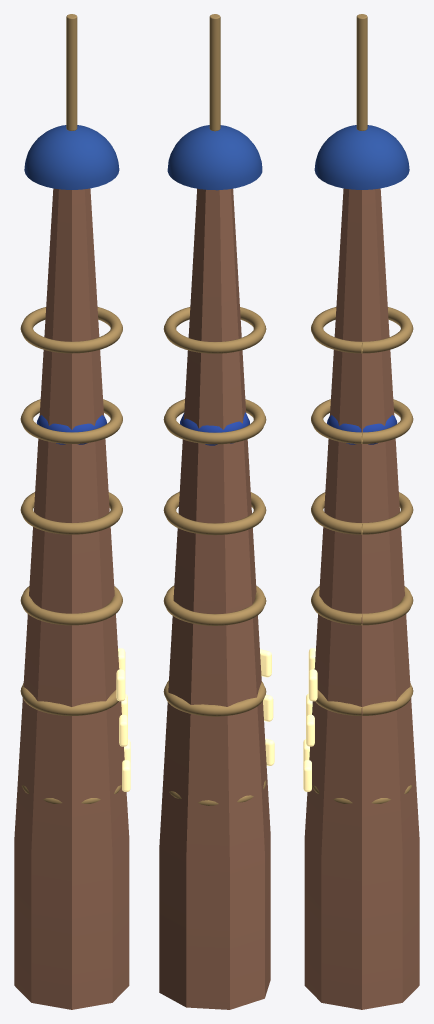
The picture shows the model from 3 angles, left to right: view 1: azimuth 90°, elevation 25°; view 2: azimuth 150°, elevation 25°; view 3: azimuth 270°, elevation 25°; orthographic projection.
Parts seen in each view (by area): view 1: Tapered spire, Sensor pickup cap, Sensor mast collar.007, Sensor mast collar.006, Sensor mast collar.005, Sensor mast collar.004, Aerial stem, Sensor mast collar.003, Spire collar, Inset service window.004; view 2: Tapered spire, Sensor pickup cap, Sensor mast collar.007, Sensor mast collar.006, Sensor mast collar.005, Sensor mast collar.004, Aerial stem, Sensor mast collar.003, Spire collar, Inset service window.004; view 3: Tapered spire, Sensor pickup cap, Sensor mast collar.007, Sensor mast collar.006, Sensor mast collar.005, Sensor mast collar.004, Aerial stem, Sensor mast collar.003, Spire collar, Inset service window.005.
Part boxes in pixels (box(x1,y1,x2,y2)): Tapered spire: box(14, 188, 129, 1009); Sensor pickup cap: box(24, 125, 119, 189); Sensor mast collar.007: box(20, 307, 122, 353); Sensor mast collar.006: box(20, 399, 122, 443); Sensor mast collar.005: box(20, 492, 122, 534); Sensor mast collar.004: box(20, 586, 122, 625); Aerial stem: box(66, 14, 77, 130); Sensor mast collar.003: box(20, 683, 118, 715); Spire collar: box(36, 415, 106, 444); Inset service window.004: box(116, 669, 125, 701); Tapered spire: box(159, 188, 270, 1009); Sensor pickup cap: box(167, 125, 262, 190); Sensor mast collar.007: box(163, 307, 266, 353); Sensor mast collar.006: box(163, 399, 266, 444); Sensor mast collar.005: box(163, 492, 266, 535); Sensor mast collar.004: box(163, 585, 266, 625); Aerial stem: box(209, 14, 220, 131); Sensor mast collar.003: box(163, 680, 266, 716); Spire collar: box(180, 412, 249, 445); Inset service window.004: box(260, 649, 271, 677); Tapered spire: box(304, 188, 419, 1009); Sensor pickup cap: box(314, 125, 409, 189); Sensor mast collar.007: box(311, 307, 413, 353); Sensor mast collar.006: box(311, 399, 413, 443); Sensor mast collar.005: box(311, 492, 413, 534); Sensor mast collar.004: box(311, 586, 413, 625); Aerial stem: box(356, 14, 367, 130); Sensor mast collar.003: box(315, 683, 413, 715); Spire collar: box(327, 415, 397, 444); Inset service window.005: box(308, 669, 317, 701).
Size of the model in its own units: 0.46 by 4.28 by 0.4649.
